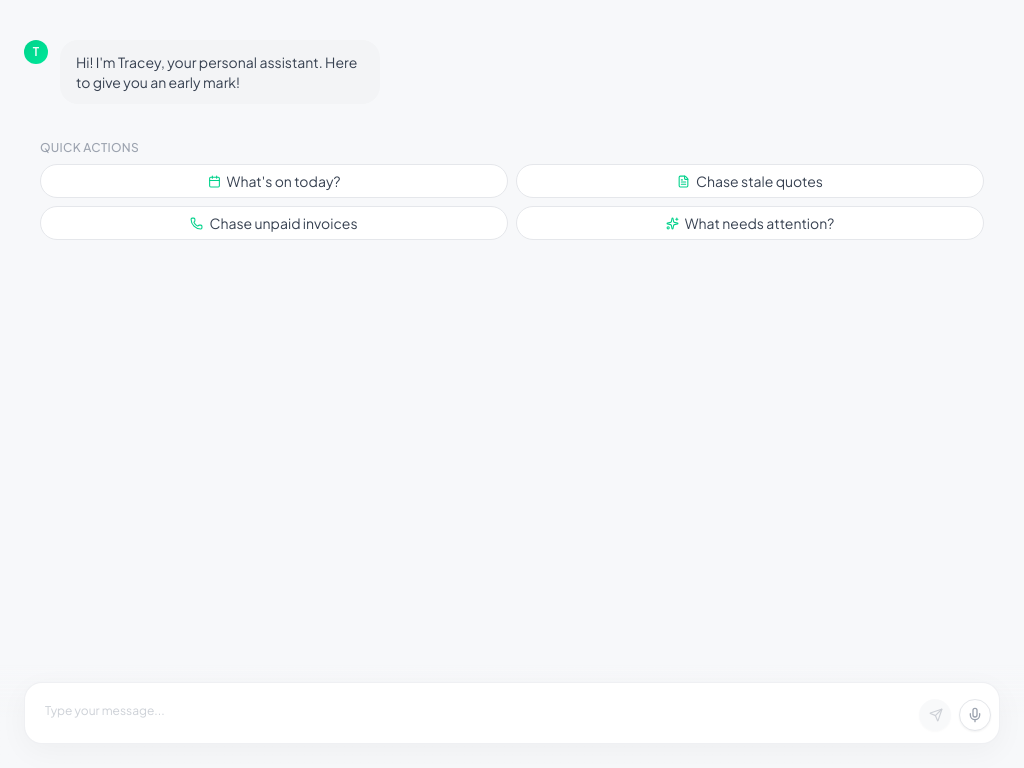
Test case: ChatInterface › submits a user message through the mocked chat hook
The width and height of the screenshot is (1024, 768).
Type "Test message" into the text box labelled "message" at (472, 713), box x1=33 y1=691 x2=911 y2=735
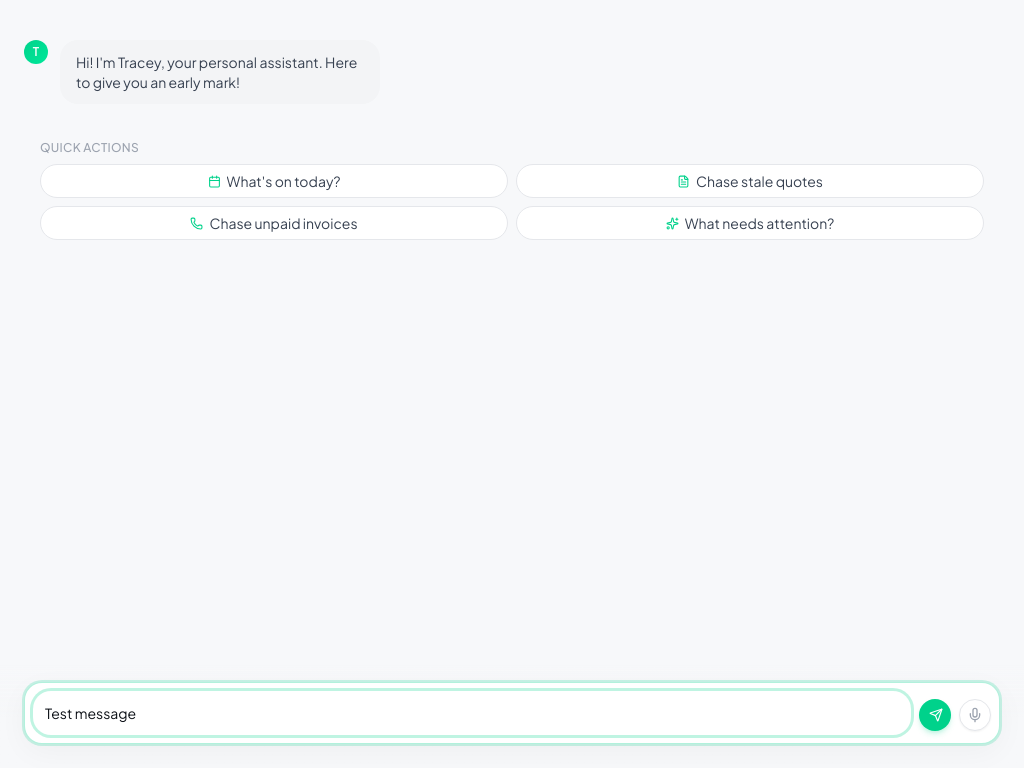
Click the button named "Send message" at (935, 715), box x1=919 y1=699 x2=951 y2=731
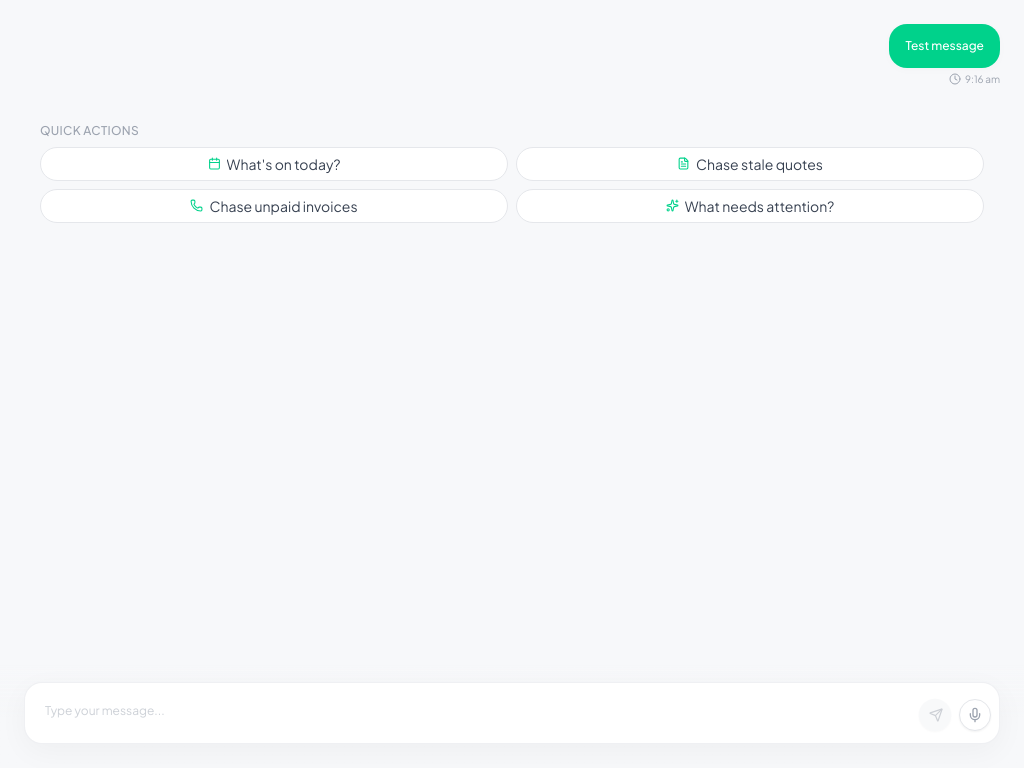
Expected: the text "Test message" is shown, x1=906 y1=36 x2=984 y2=56
Expected: the text box labelled "message" is empty, x1=33 y1=691 x2=911 y2=735
